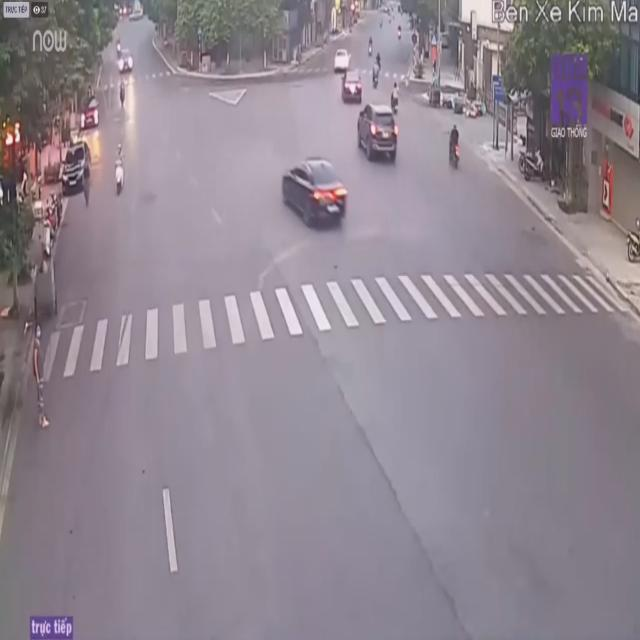car: (282, 157, 353, 231), (357, 100, 399, 162), (62, 140, 90, 194)
motorbike: (446, 125, 462, 171), (113, 146, 126, 197)
